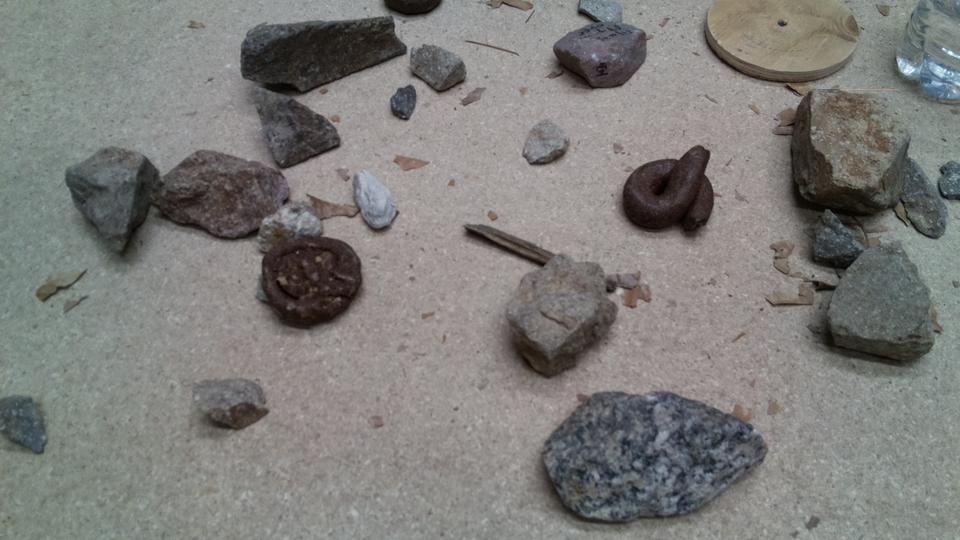poop: (258, 230, 364, 334), (618, 141, 719, 237), (381, 1, 444, 19)
